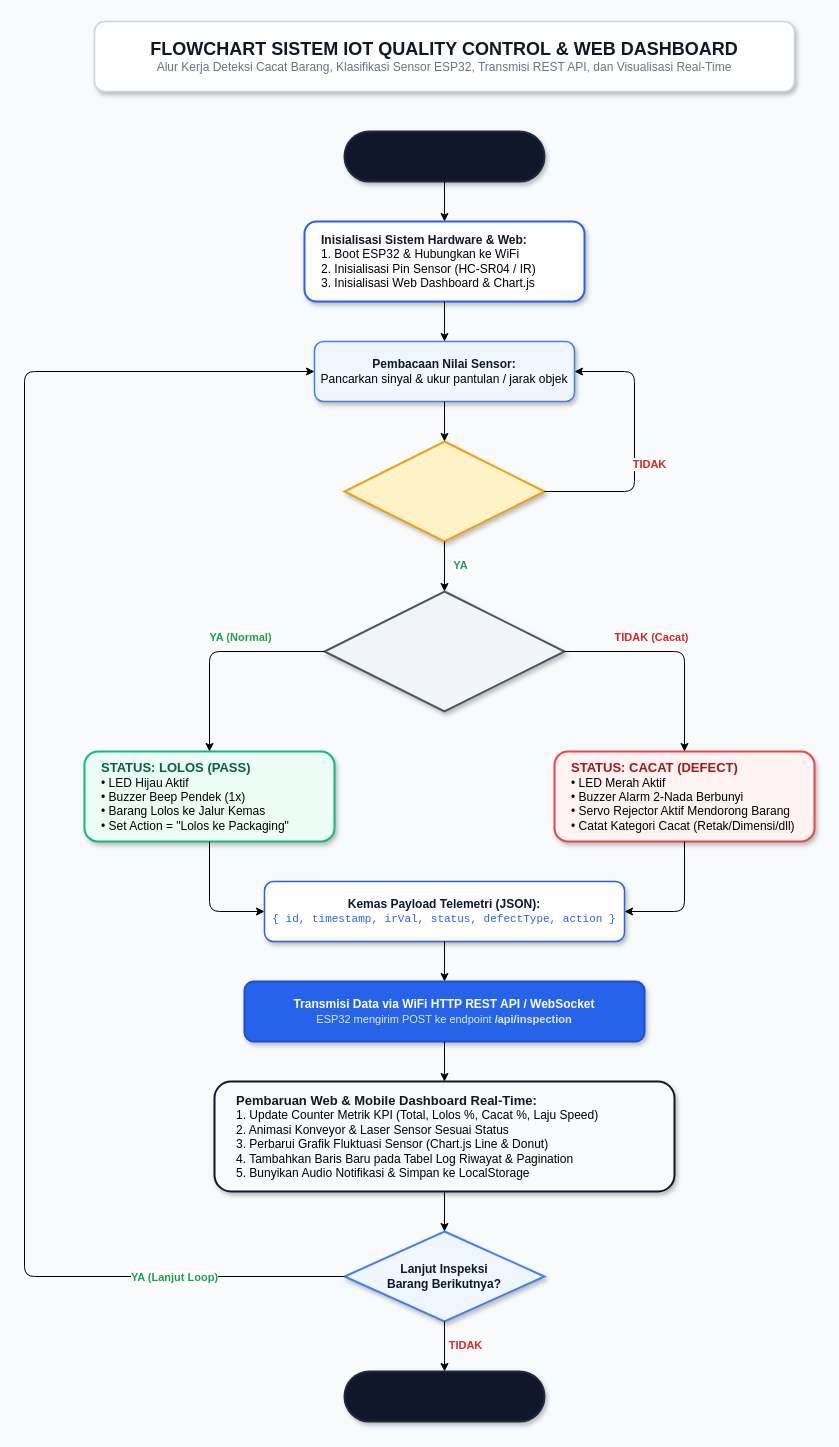
Some shapes in this 839 by 1447 pixel diagram are drawn without their labels. The shapes that lost their labels are listed below. From the top down, each one's centre as x and y in pixels, then its label:
point 445,157: MULAI (START)
point 445,492: Objek / Barang Terdeteksi?
point 445,652: Apakah Nilai Sensor Sesuai Toleransi Standar (Normal)?
point 445,1397: SELESAI (END)
